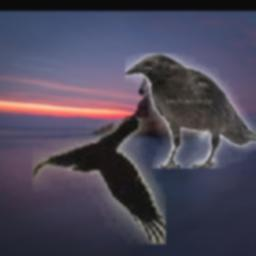Crow: (31, 118, 165, 244), (124, 54, 256, 168)
